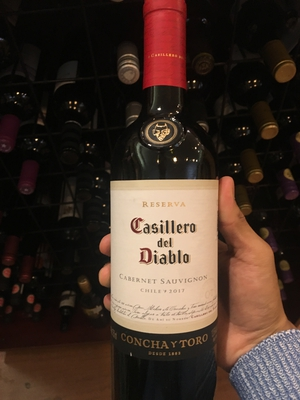casillero del diablo cabernet sauvignon: (103, 3, 225, 400)
